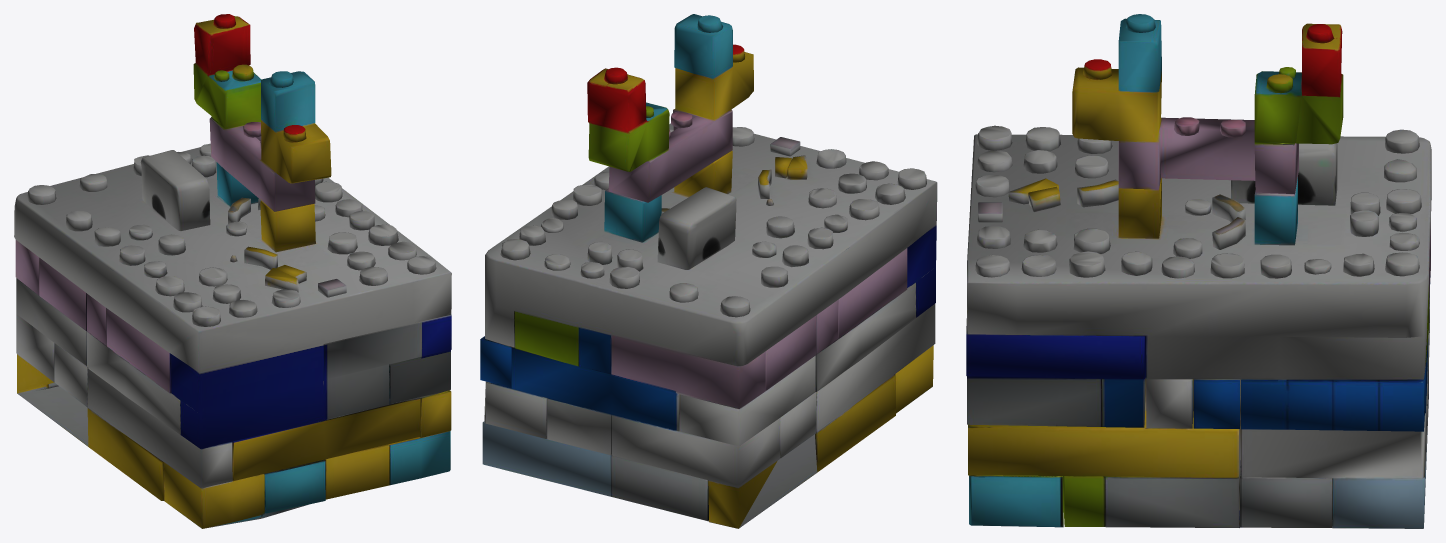
File: object_11_asset_8f785026.glb
3 views of the same model, side by side, from view 1: azimuth 30°, elevation 25°; view 2: azimuth 150°, elevation 25°; view 3: azimuth 270°, elevation 25° (orthographic). The views are drawn at different scales.
Parts seen in each view (by area): view 1: tripo_node_67544b2e-f1b6-4eab-8351-3c34f66a1066; view 2: tripo_node_67544b2e-f1b6-4eab-8351-3c34f66a1066; view 3: tripo_node_67544b2e-f1b6-4eab-8351-3c34f66a1066.
Part boxes in pixels (x1,y1,x2,y2): tripo_node_67544b2e-f1b6-4eab-8351-3c34f66a1066: [14, 14, 451, 528]; tripo_node_67544b2e-f1b6-4eab-8351-3c34f66a1066: [480, 14, 937, 528]; tripo_node_67544b2e-f1b6-4eab-8351-3c34f66a1066: [966, 14, 1431, 528].
Bounding box in the file's own units: 0.7207 × 0.998 × 0.9238.
1 material, 1 textured.
